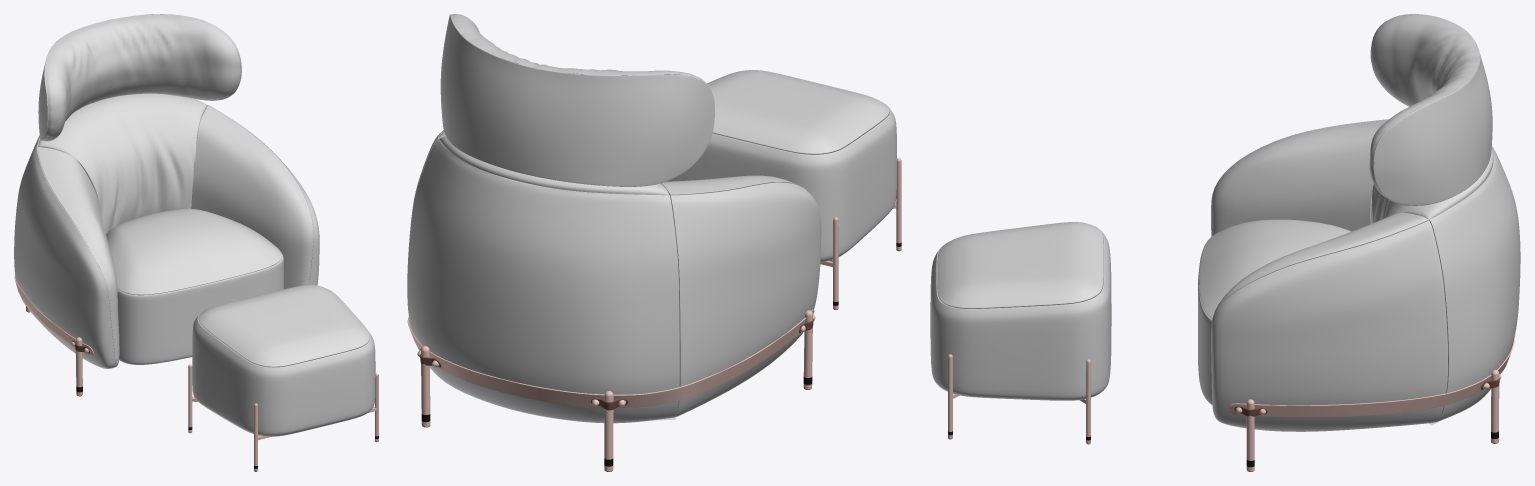
The model's file is SLN_JADE-SENIOR.glb.
3 views of the same model, side by side, from view 1: azimuth 30°, elevation 25°; view 2: azimuth 150°, elevation 25°; view 3: azimuth 270°, elevation 25° (orthographic). The views are drawn at different scales.
Visible parts, largest first — view 1: JADE SENIOR; view 2: JADE SENIOR; view 3: JADE SENIOR.
Boxes of the visible parts, box(x1,y1,x2,y2) form: JADE SENIOR: box(14, 14, 378, 471); JADE SENIOR: box(407, 14, 901, 471); JADE SENIOR: box(930, 14, 1520, 471).
Size of the model in its own units: 0.9813 by 1.09 by 1.69.
